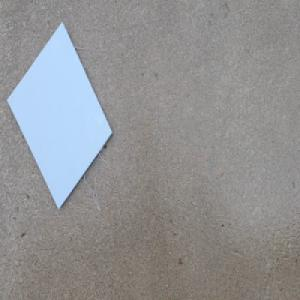PaintChip: (6, 21, 113, 212)
